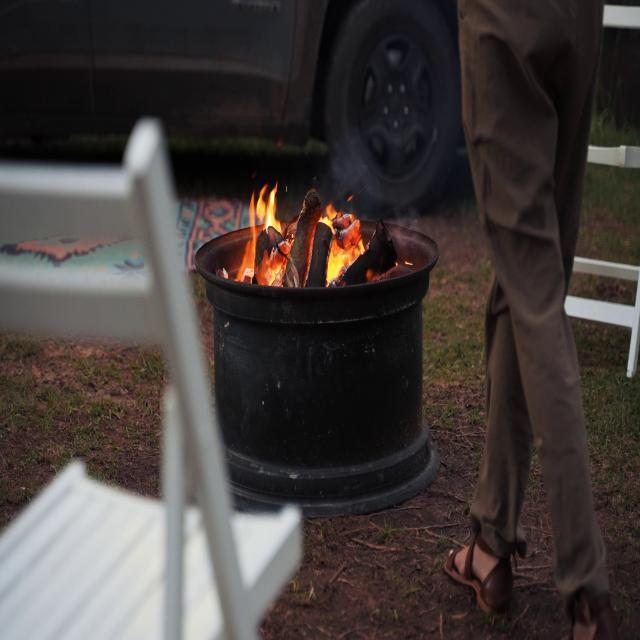Fire: (235, 169, 305, 285), (322, 188, 370, 288)
